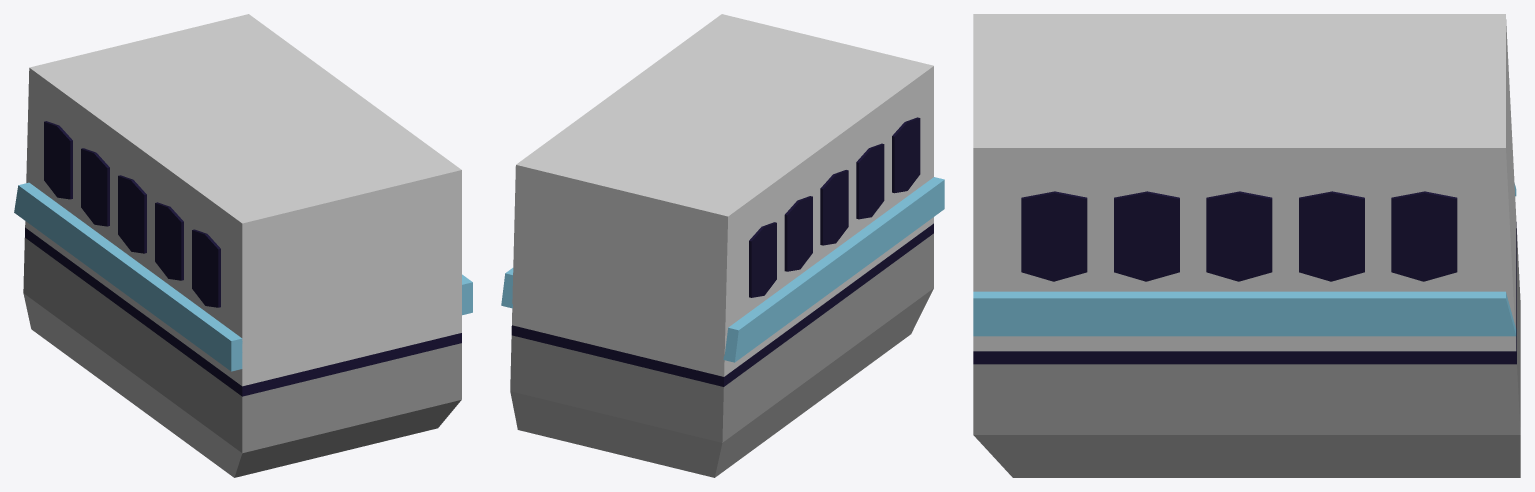
The model's file is middle.fbx.
3 renders of one model, left to right at view 1: azimuth 30°, elevation 25°; view 2: azimuth 150°, elevation 25°; view 3: azimuth 270°, elevation 25°, orthographic. The views are drawn at different scales.
Visible parts, largest first — view 1: car4; view 2: car4; view 3: car4.
Boxes of the visible parts, x1,y1,x2,y2 form: car4: (14,14,472,477); car4: (501,14,944,477); car4: (973,14,1520,477).
Size of the model in its own units: 220 by 233 by 345.
